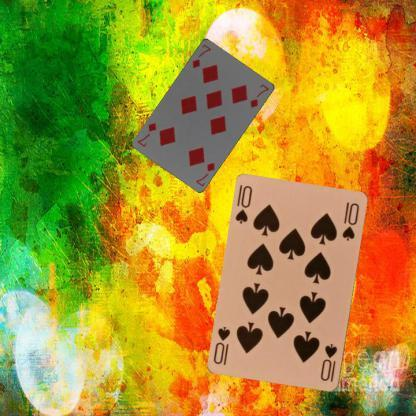10s: (233, 183, 254, 225), (318, 341, 338, 384)
7d: (190, 40, 212, 70), (194, 159, 216, 188)
